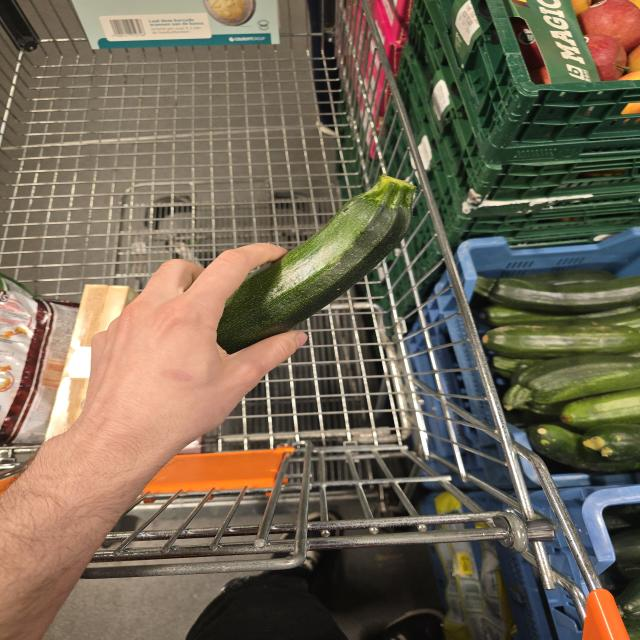Courgette: (217, 175, 416, 354)
